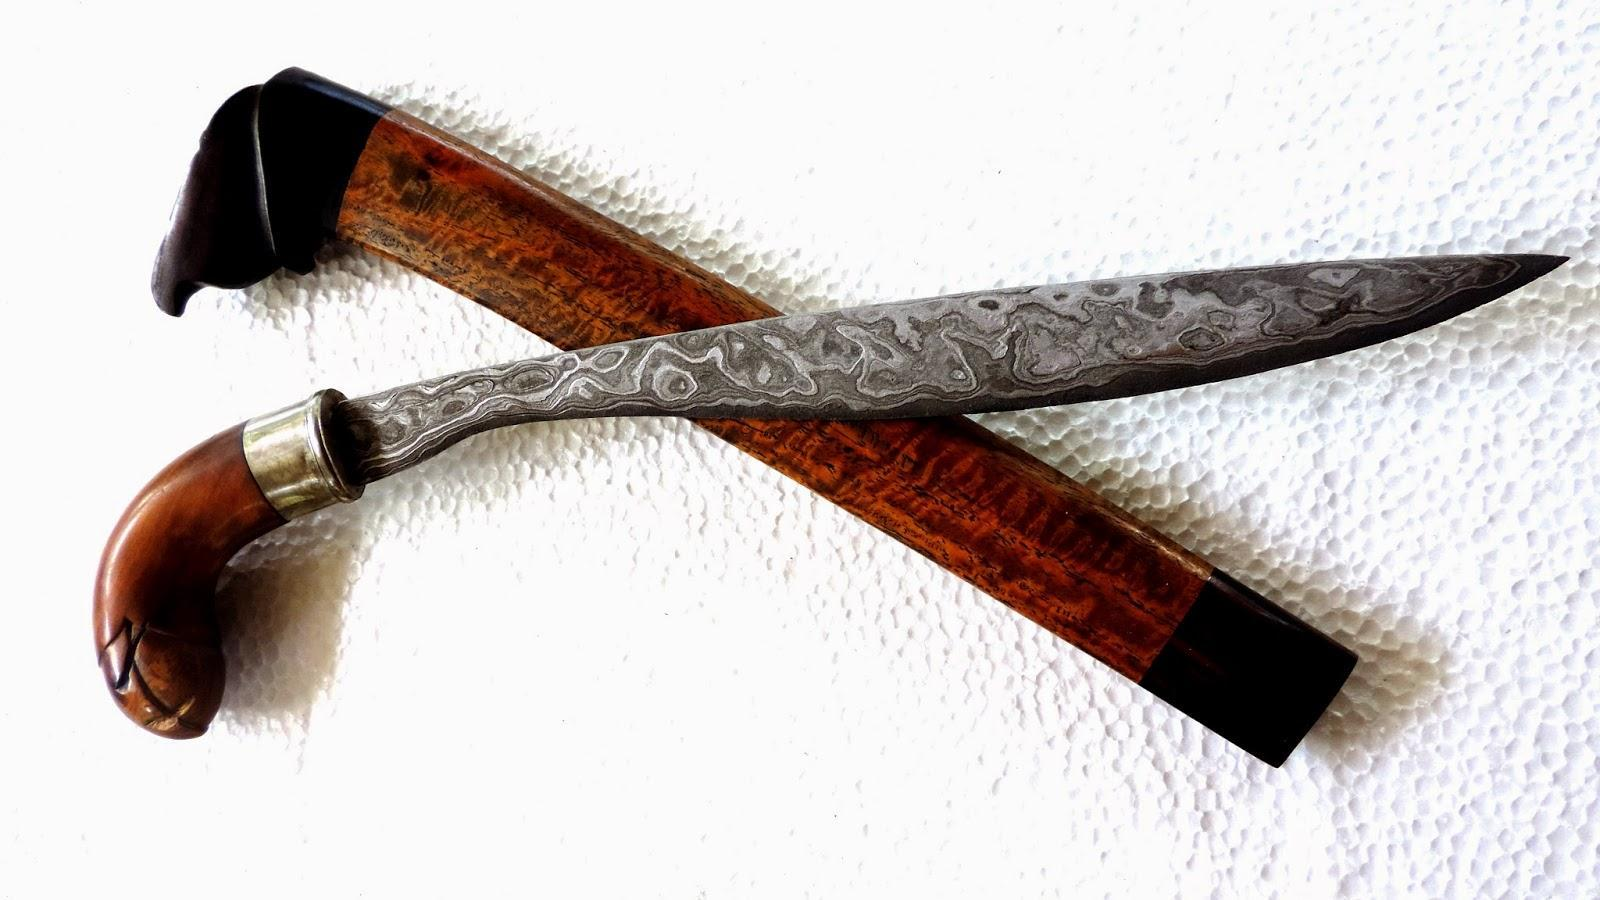facao: (95, 254, 1566, 737)
